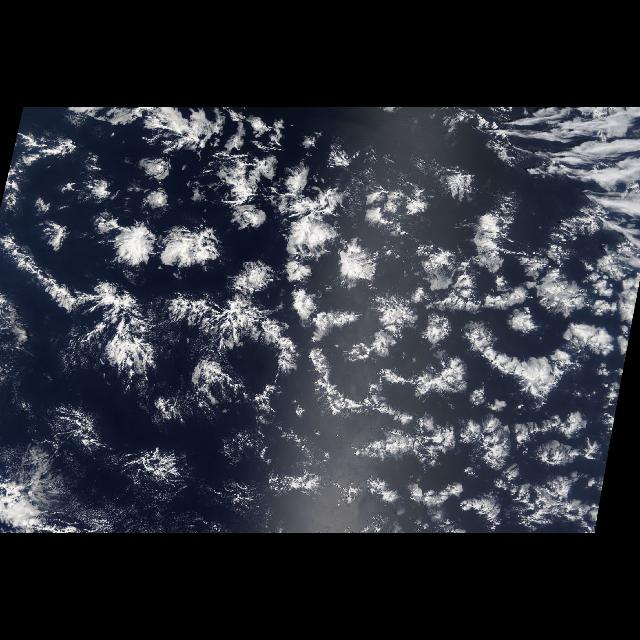Flower: (26, 109, 640, 533)
